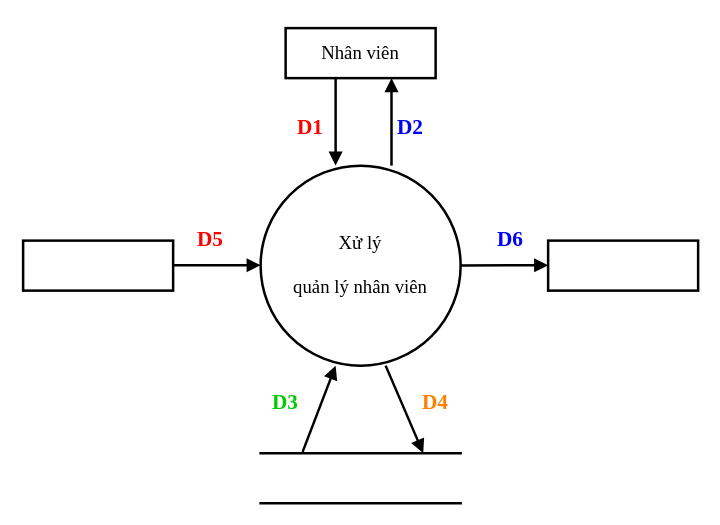
This 720x525 diagram has some shape labels left out. The centre of each missing label's shape, as x and y in pixels:
"Thiết bị nhập" belongs at [97,265].
"Thiết bị xuất" belongs at [622,265].
